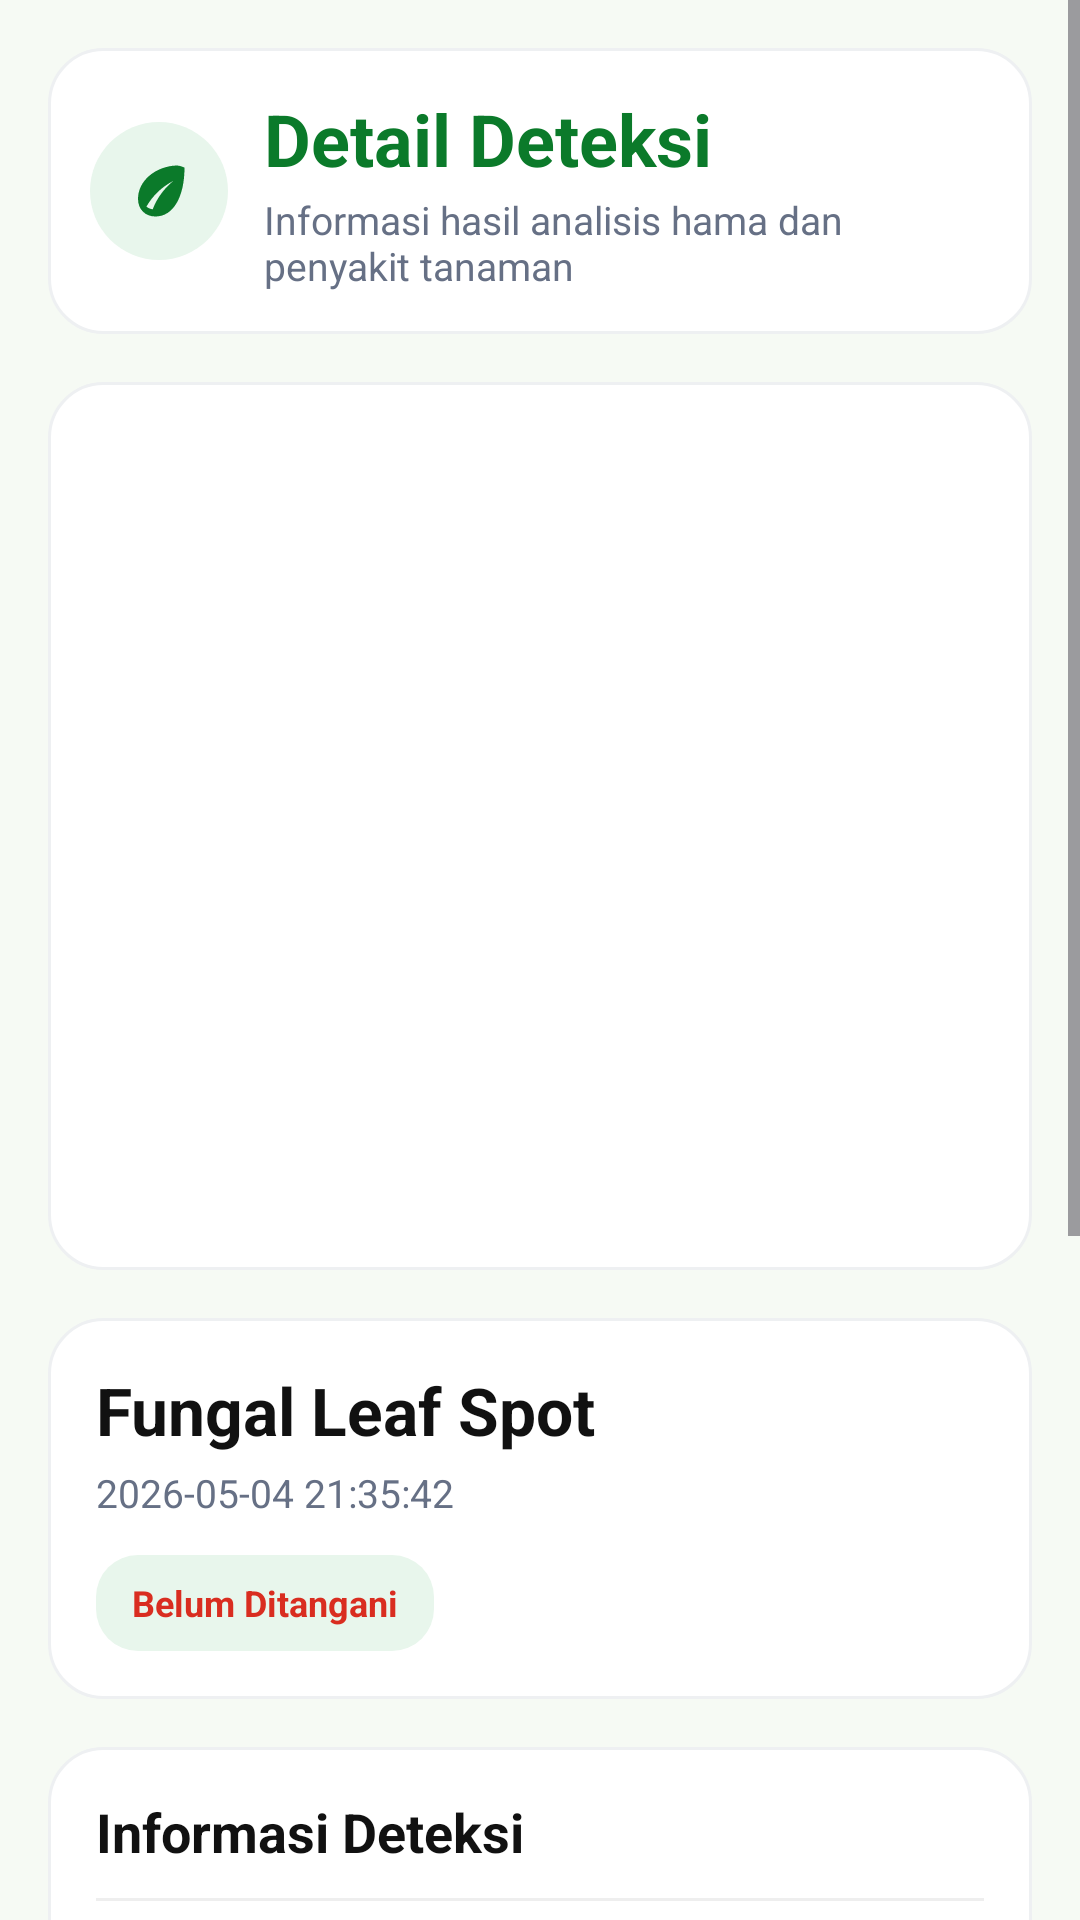

Icon bounding boxes for this 1080*1920 phone screenshot, format (x1, y1, x2, y2):
leaf: (138, 165, 185, 217)
